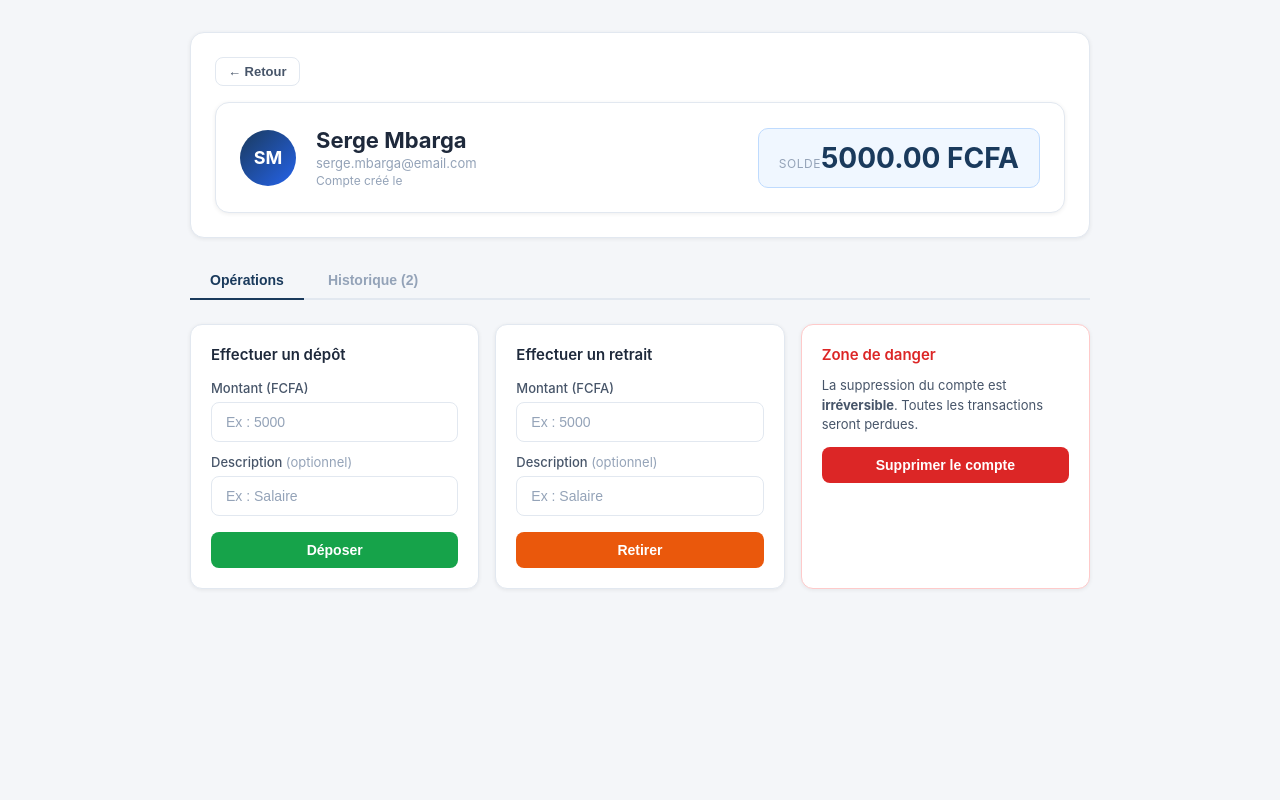
Test: AccountDetail — zone de danger › ouvre la modale de confirmation au clic sur Supprimer
The width and height of the screenshot is (1280, 800).
What coordinates should you click on to do the following:
click the button "Supprimer le compte"
I would click on:
 (945, 464)
Its box is [822,446,1069,482].
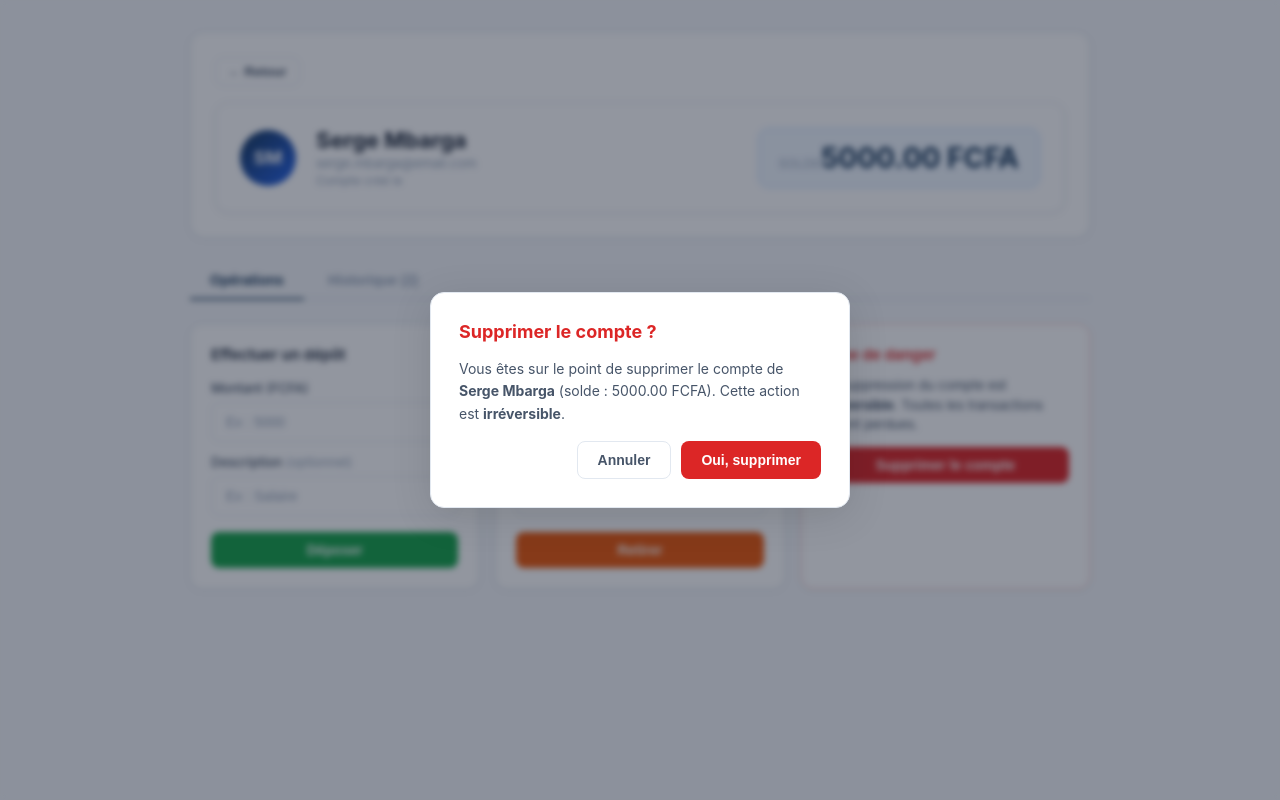
Result: the element that starts with "Supprimer le compte ?" is shown
